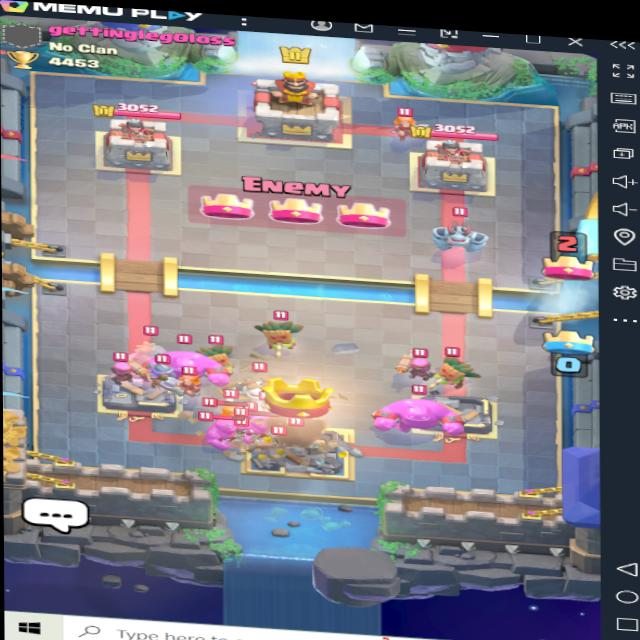Dartgoblin: (249, 301, 306, 355), (434, 342, 476, 389), (190, 334, 235, 377)
Egolem: (359, 380, 468, 443), (133, 338, 238, 389), (194, 408, 250, 446)
Firecracker: (390, 342, 434, 380), (101, 349, 142, 388)
Megaminion: (430, 205, 496, 259), (226, 364, 293, 407)
Musketeer: (144, 350, 189, 393)
Royalghost: (127, 326, 179, 370)
Valk: (392, 104, 430, 142), (165, 362, 205, 397)
